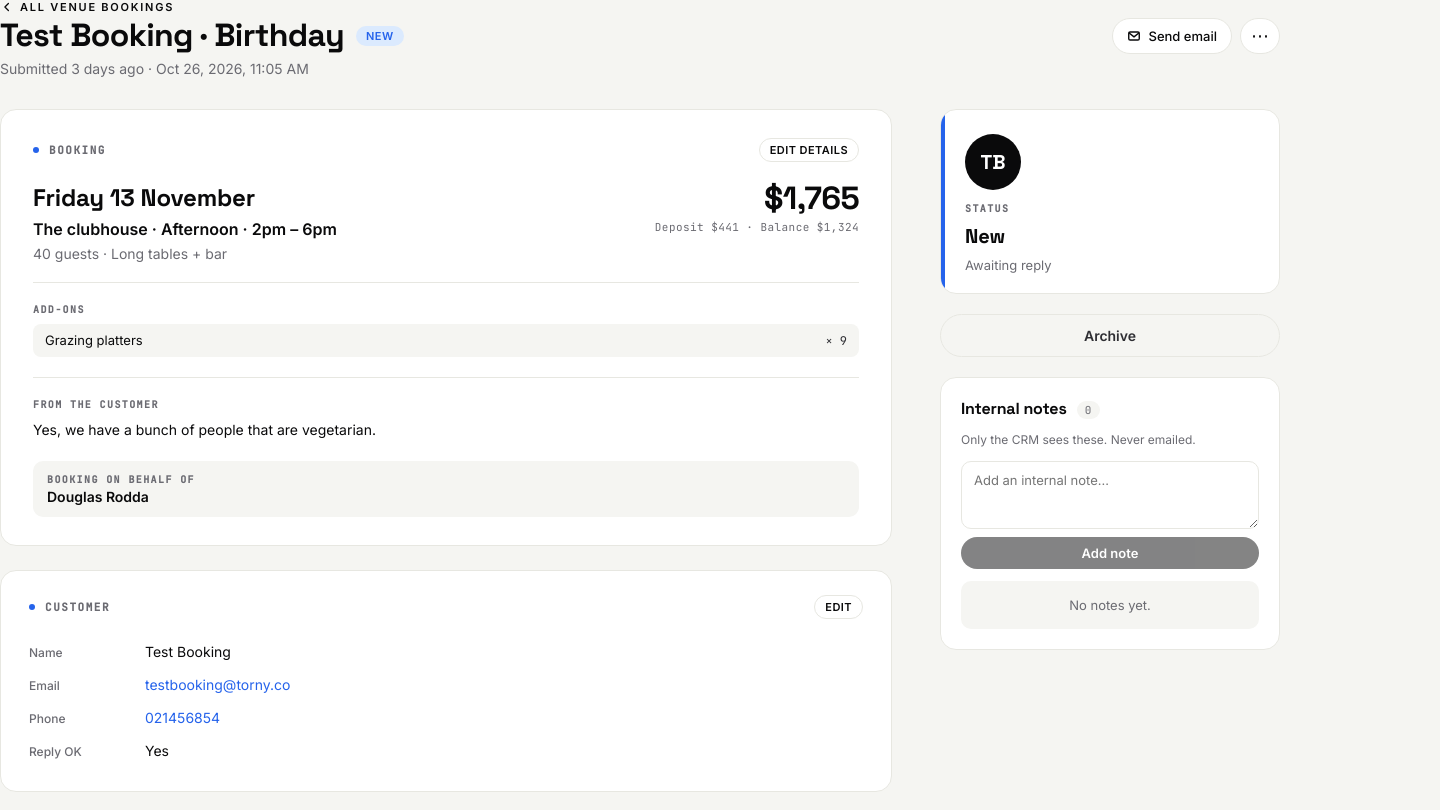
Test case: VenueBookingDetailView — delete flow › opens the delete confirm from the overflow menu
The width and height of the screenshot is (1440, 810).
Click the button with class "detail__action-btn--icon": coordinates (1260, 36) 1240,18 -> 1280,54
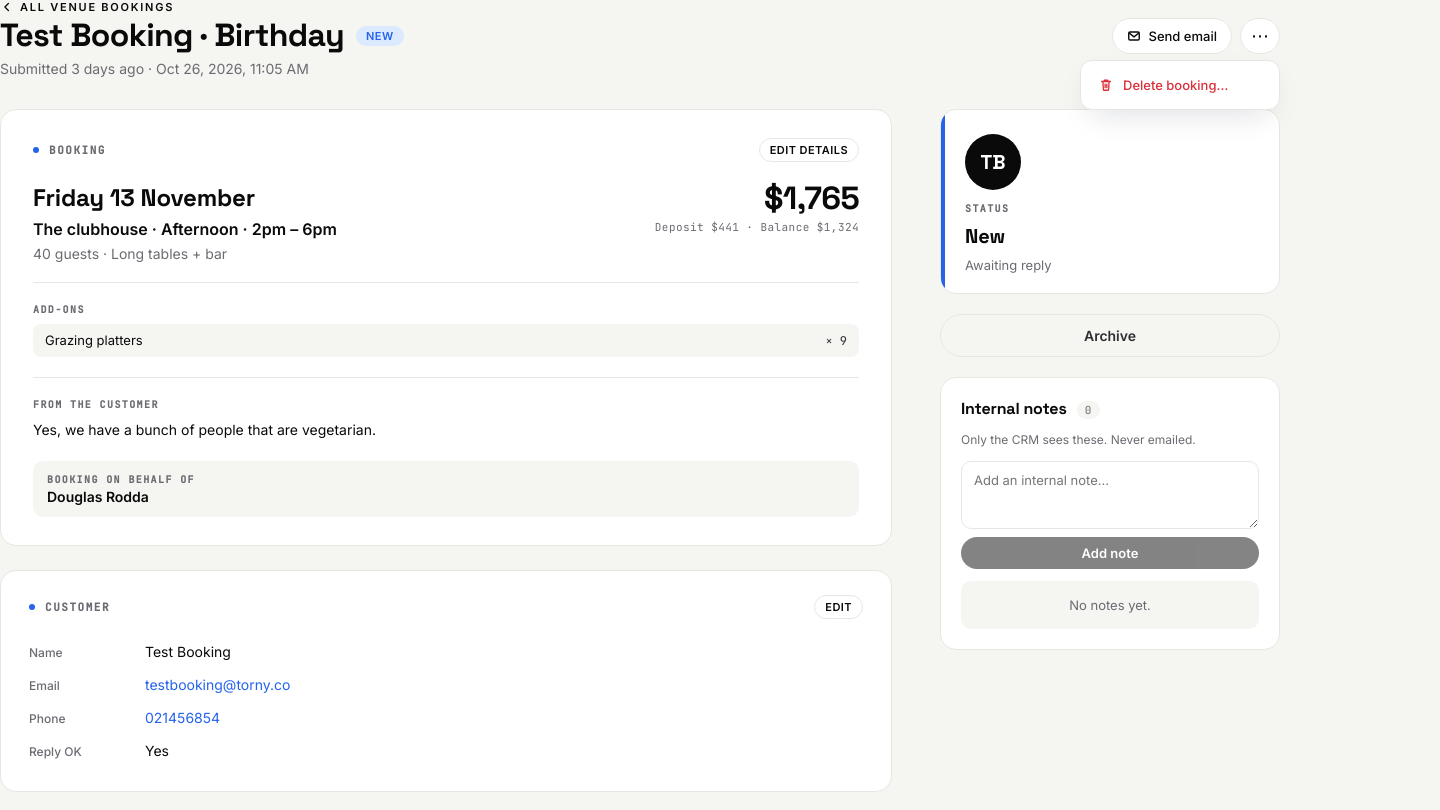
Result: the element with class "overflow__menu" is shown at 1080,60 -> 1280,110
Result: the button with class "overflow__item" is shown
Click the button with class "overflow__item": coordinates (1180, 85) 1087,67 -> 1273,103
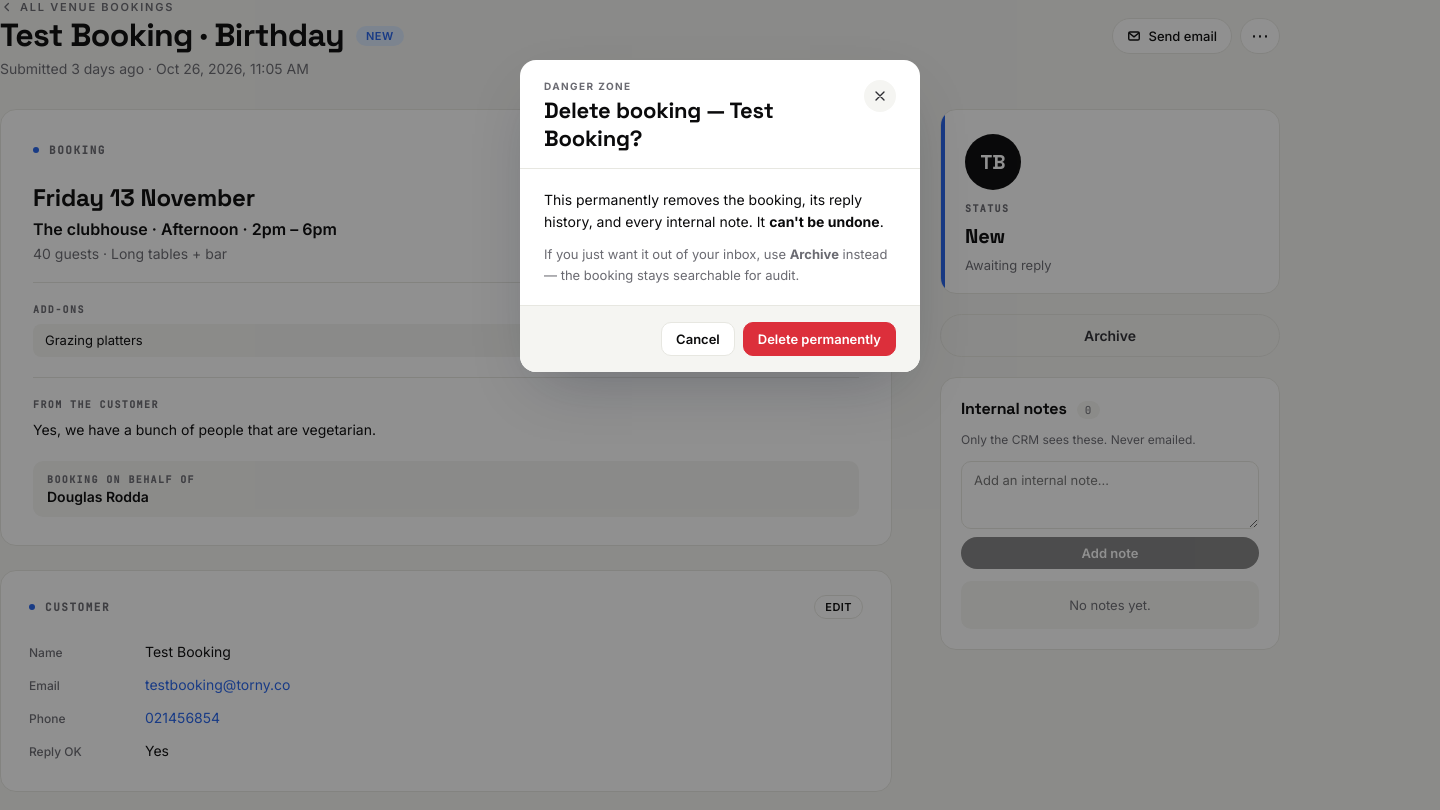
Result: the text "can't be undone" is shown at 769,213 -> 880,230
